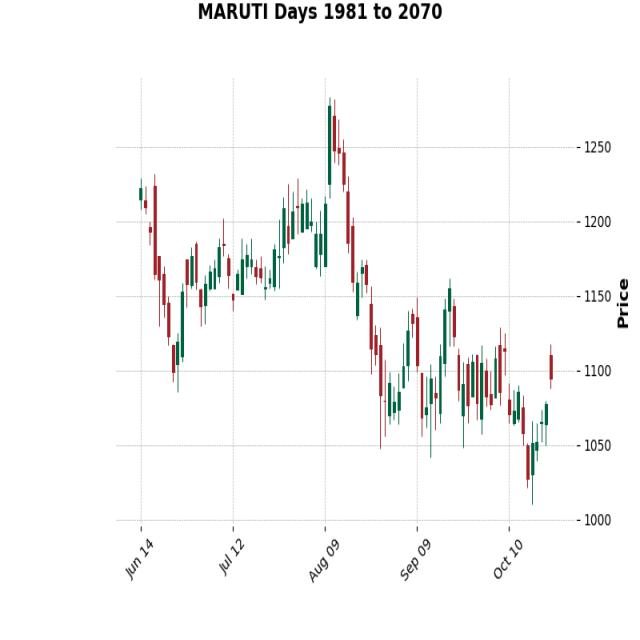Symmetric Triangle: (389, 261, 502, 451)
